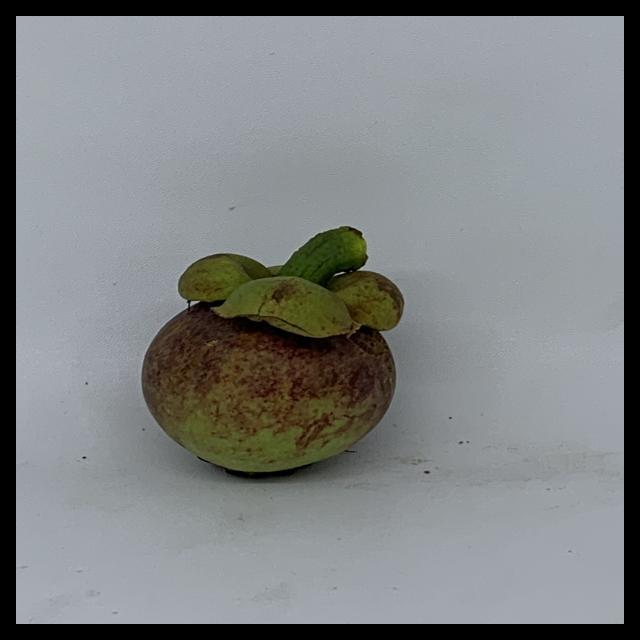mangosteen: (133, 223, 433, 476)
